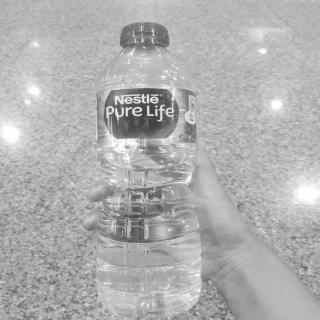plastic_bottles: (91, 23, 206, 317)
